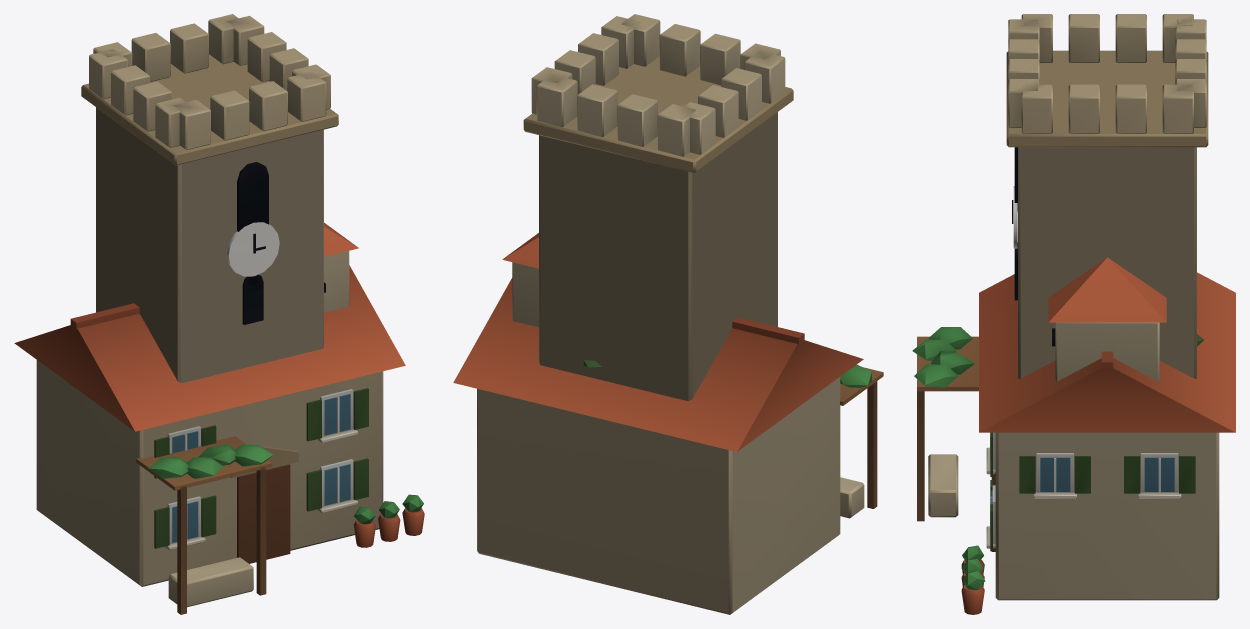
File: kit-vigneto.glb
3 views of the same model, side by side, from view 1: azimuth 30°, elevation 25°; view 2: azimuth 150°, elevation 25°; view 3: azimuth 270°, elevation 25° (orthographic). The views are drawn at different scales.
Parts seen in each view (by area): view 1: casale, torre; view 2: casale, torre; view 3: casale, torre.
Boxes of the visible parts, left/top/right/bottom form: casale: left=14, top=222, right=424, bottom=614; torre: left=81, top=14, right=338, bottom=383; casale: left=453, top=233, right=883, bottom=614; torre: left=523, top=14, right=793, bottom=401; casale: left=912, top=257, right=1235, bottom=614; torre: left=1006, top=14, right=1208, bottom=378.
Bounding box in the file's own units: 4.7 × 7.21 × 4.34.
